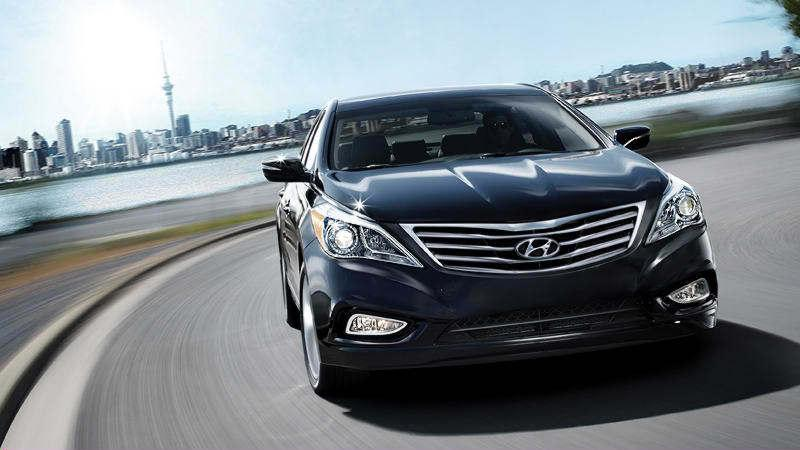Car: (243, 71, 749, 419)
